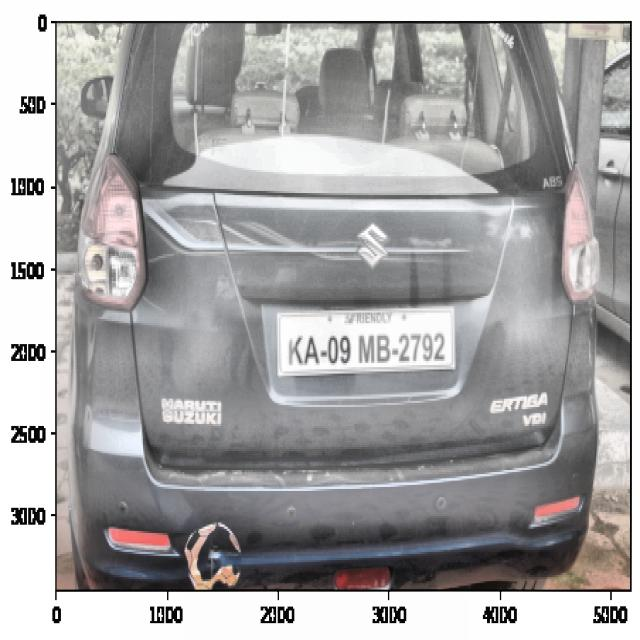license_plate: (278, 321, 452, 376)
